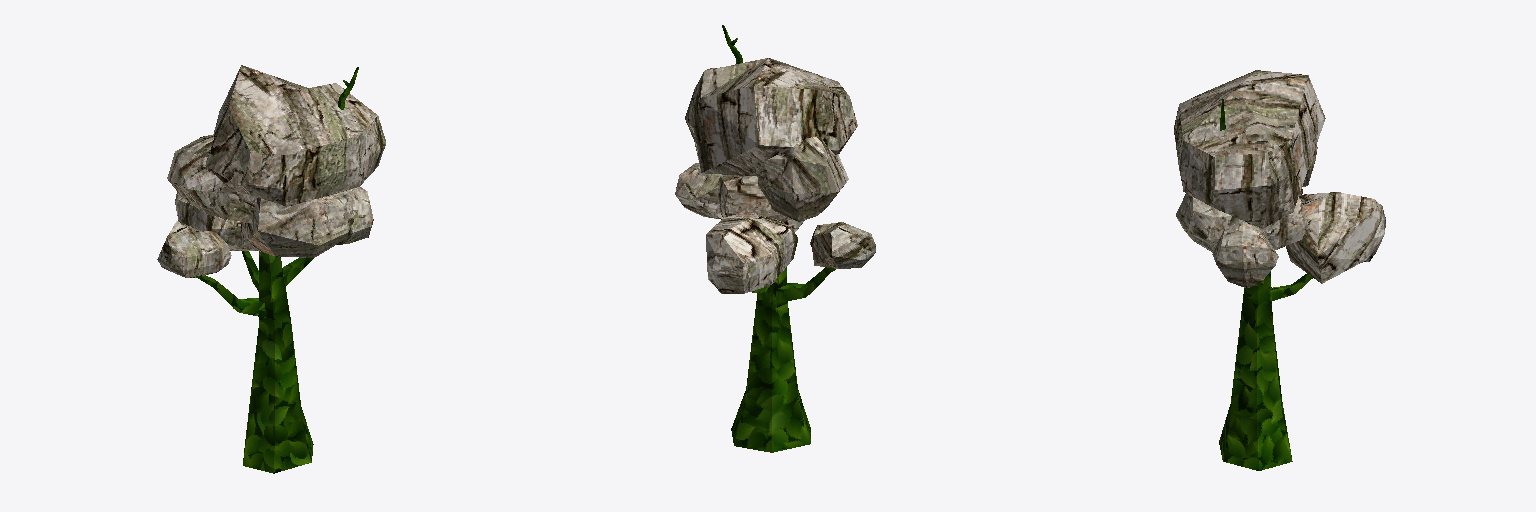
3 renders of one model, left to right at view 1: azimuth 30°, elevation 25°; view 2: azimuth 150°, elevation 25°; view 3: azimuth 270°, elevation 25°, orthographic.
Parts seen in each view (by area): view 1: Tree_temp_climate_003_Mesh.002; view 2: Tree_temp_climate_003_Mesh.002; view 3: Tree_temp_climate_003_Mesh.002.
Part boxes in pixels (left/top/right/bottom): Tree_temp_climate_003_Mesh.002: left=157, top=65, right=385, bottom=473; Tree_temp_climate_003_Mesh.002: left=675, top=25, right=875, bottom=452; Tree_temp_climate_003_Mesh.002: left=1174, top=70, right=1385, bottom=470.
Size of the model in its own units: 2.57 by 4.82 by 2.42.
1 materials, 1 textured.